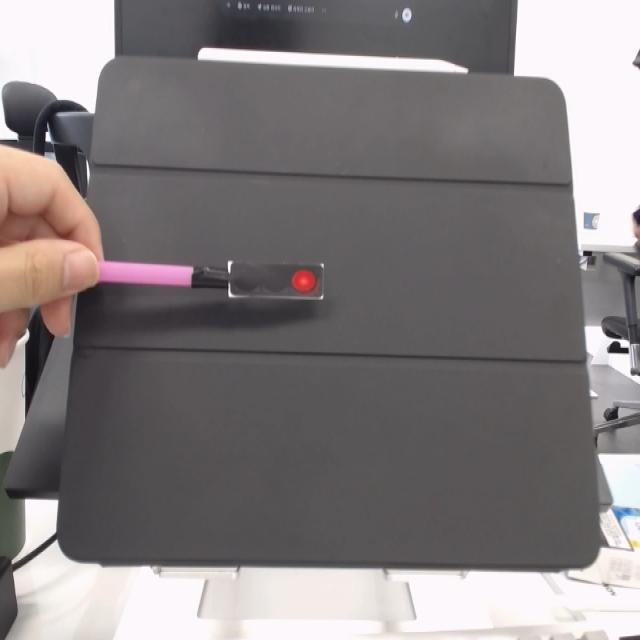traffic light: (216, 263, 326, 303)
